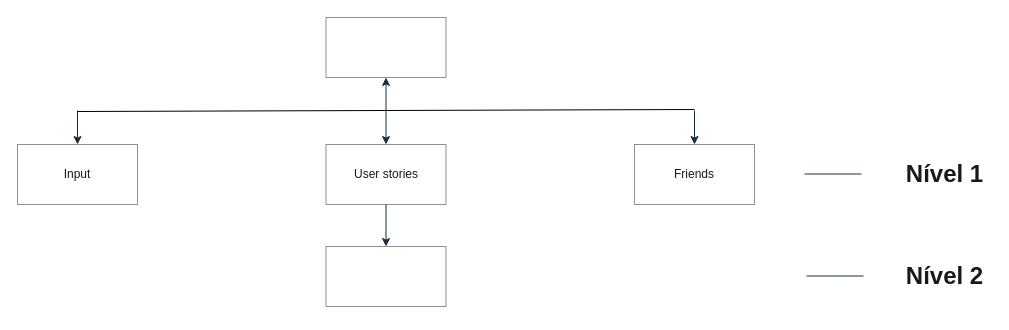
The diagram is 1009 pixels wide and 330 high, and some of its shapes have lost their labels. Here are the shapes that lost their labels. From the top down, the centre of each, then its label:
point (385, 47): Home
point (385, 276): User story
